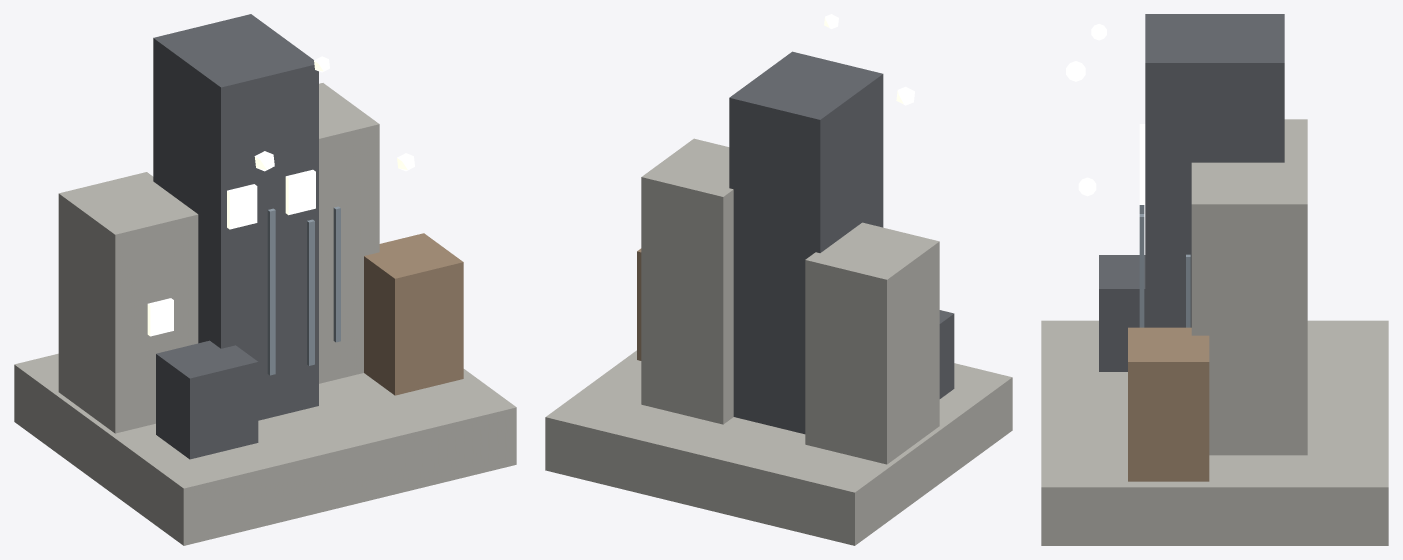
File: LM17_CryingCity.glb
The picture shows the model from 3 angles, left to right: view 1: azimuth 30°, elevation 25°; view 2: azimuth 150°, elevation 25°; view 3: azimuth 270°, elevation 25°; orthographic projection. The views are drawn at different scales.
Visible parts, largest first — view 1: Base.003, B2, B1, B4, B3, B5, StreakA, WinA, WinB, StreakB, StreakC, WinC; view 2: Base.003, B2, B1, B3, B5, B4; view 3: Base.003, B3, B2, B4, B5, B1, StreakB.
Boxes of the visible parts, <box> form: Base.003: <box>14,353,516,545</box>; B2: <box>153,14,318,420</box>; B1: <box>58,172,198,433</box>; B4: <box>364,233,463,395</box>; B3: <box>319,83,379,383</box>; B5: <box>156,340,258,459</box>; StreakA: <box>267,208,275,375</box>; WinA: <box>227,184,257,229</box>; WinB: <box>285,169,315,215</box>; StreakB: <box>307,219,314,365</box>; StreakC: <box>333,206,340,342</box>; WinC: <box>147,298,173,336</box>; Base.003: <box>545,350,1012,545</box>; B2: <box>729,51,883,434</box>; B1: <box>805,222,939,464</box>; B3: <box>641,138,733,424</box>; B5: <box>939,310,954,398</box>; B4: <box>637,248,641,360</box>; Base.003: <box>1041,320,1388,545</box>; B3: <box>1191,160,1307,455</box>; B2: <box>1145,14,1284,327</box>; B4: <box>1128,327,1209,481</box>; B5: <box>1099,255,1145,371</box>; B1: <box>1284,119,1307,160</box>; StreakB: <box>1139,214,1144,327</box>.
Size of the model in its own units: 1.7 by 2.09 by 1.5.
